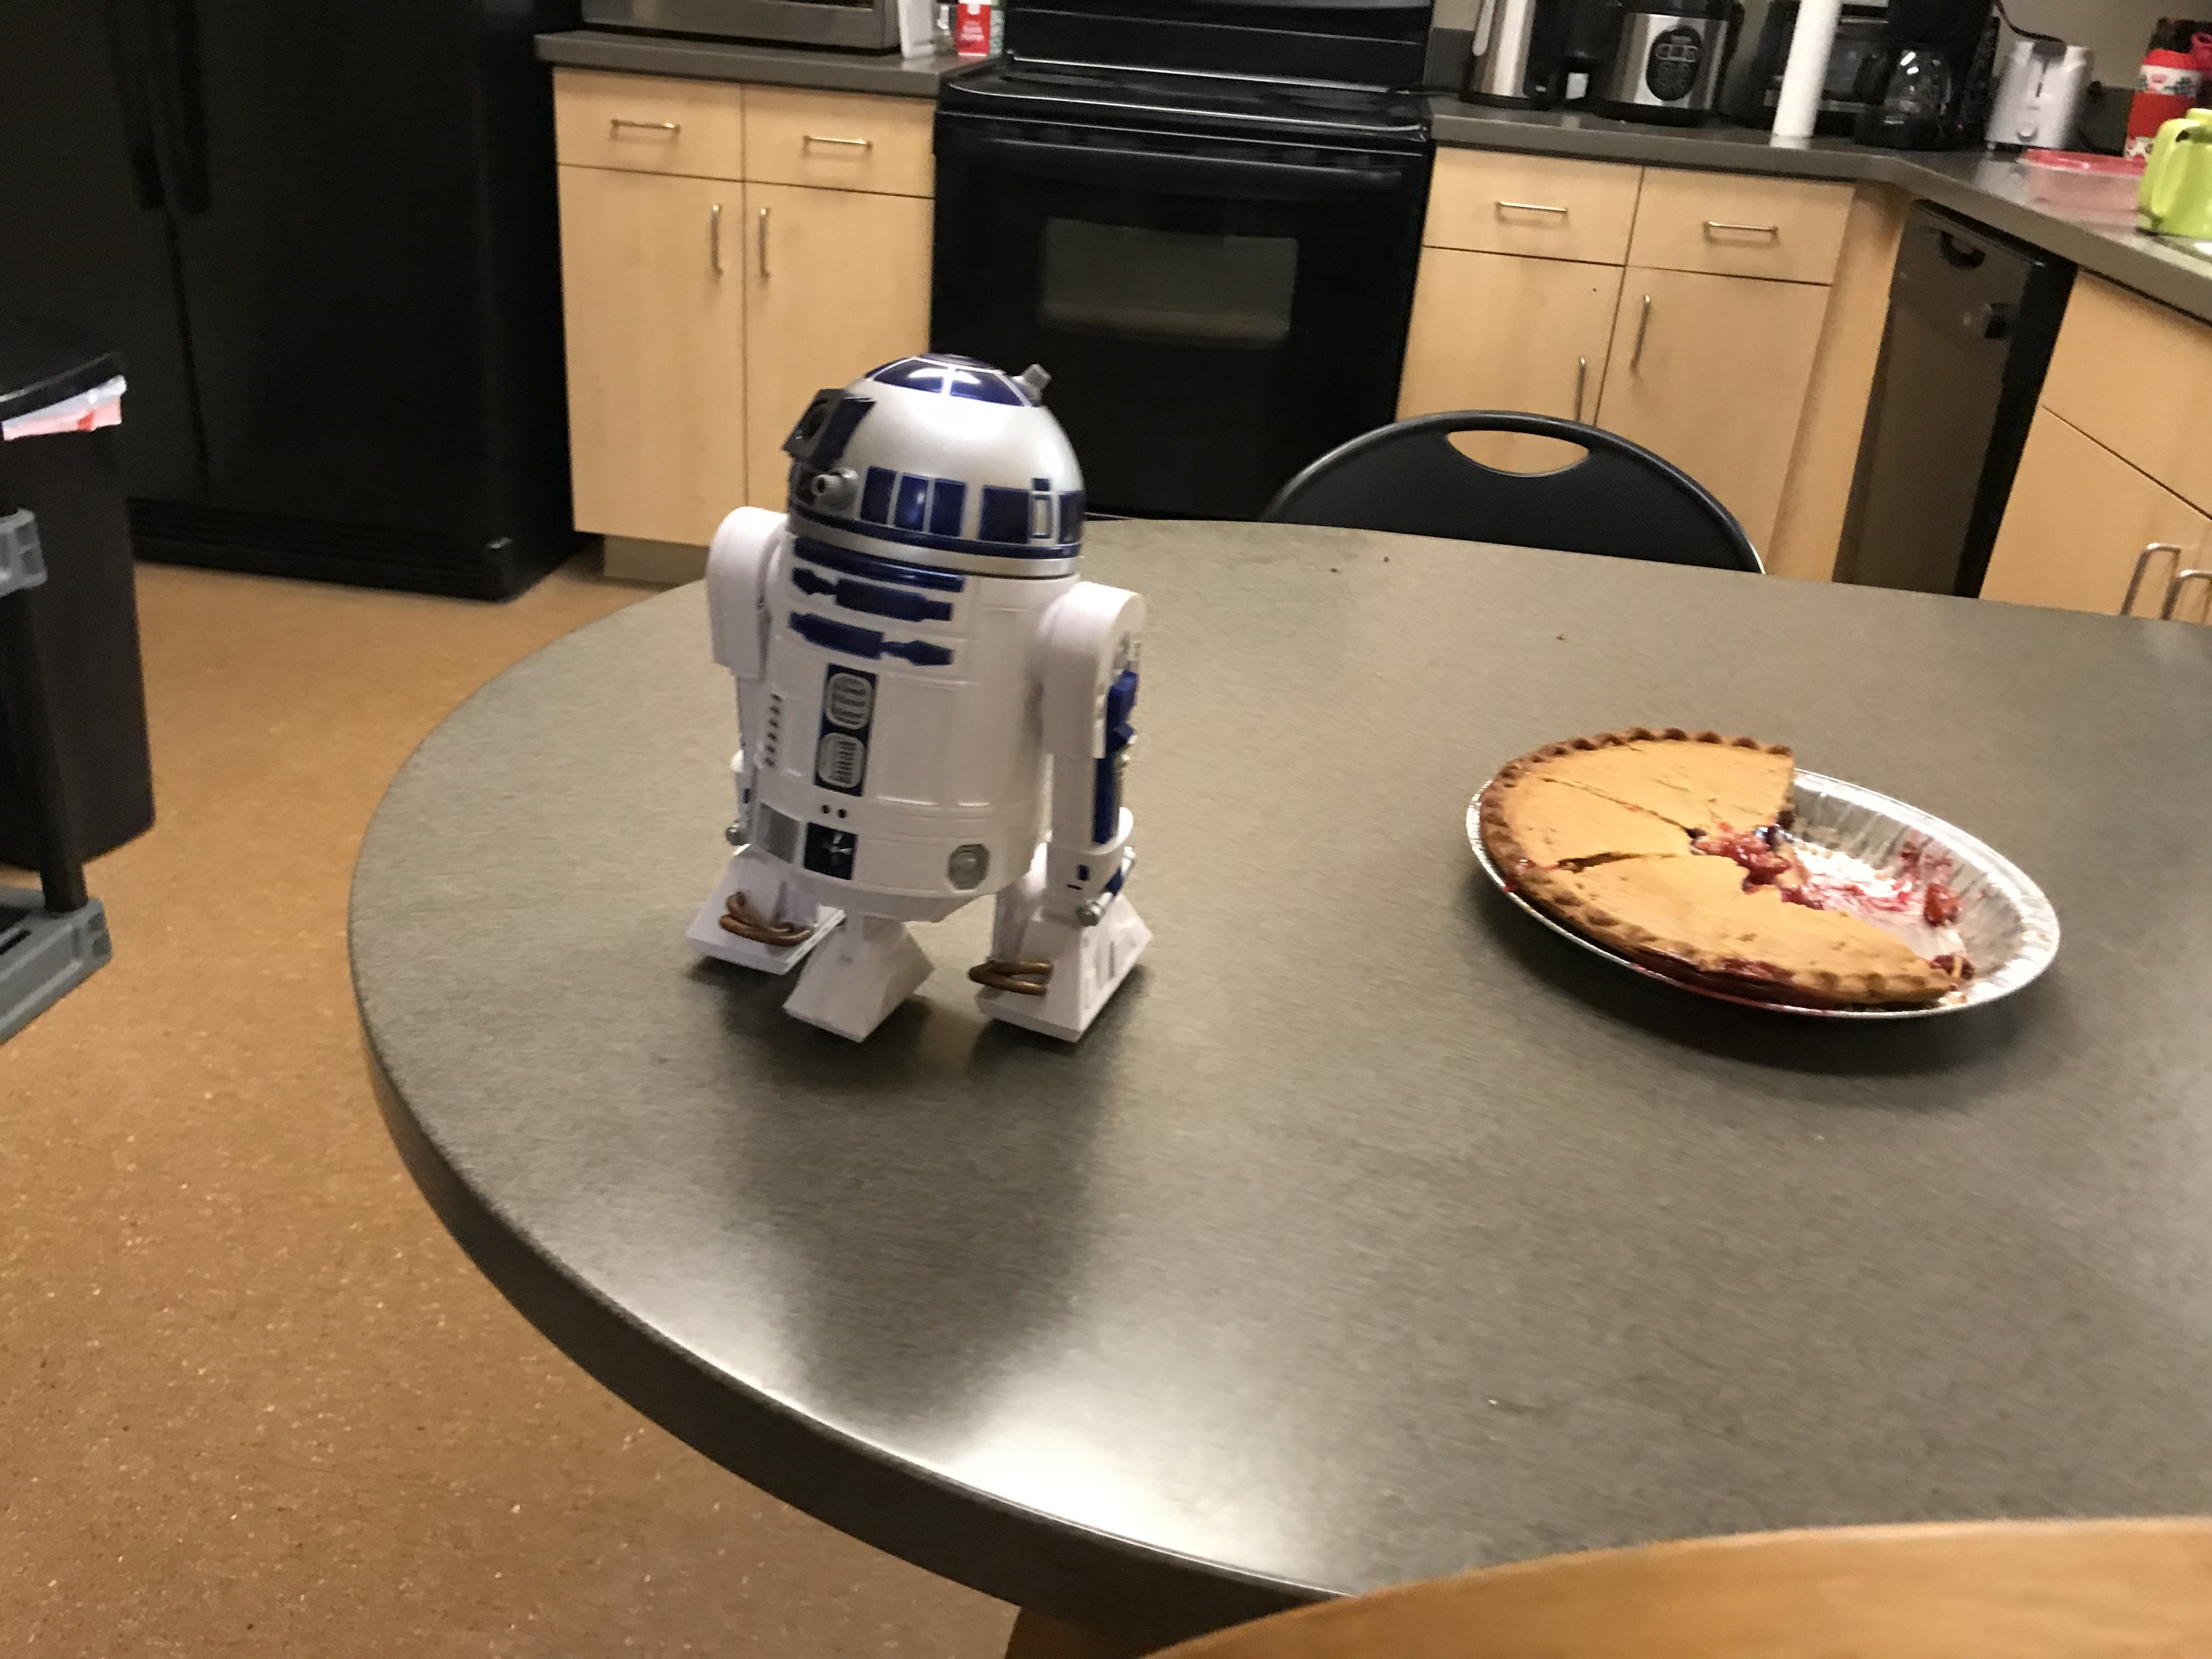r2d2: (688, 352, 1155, 1044)
